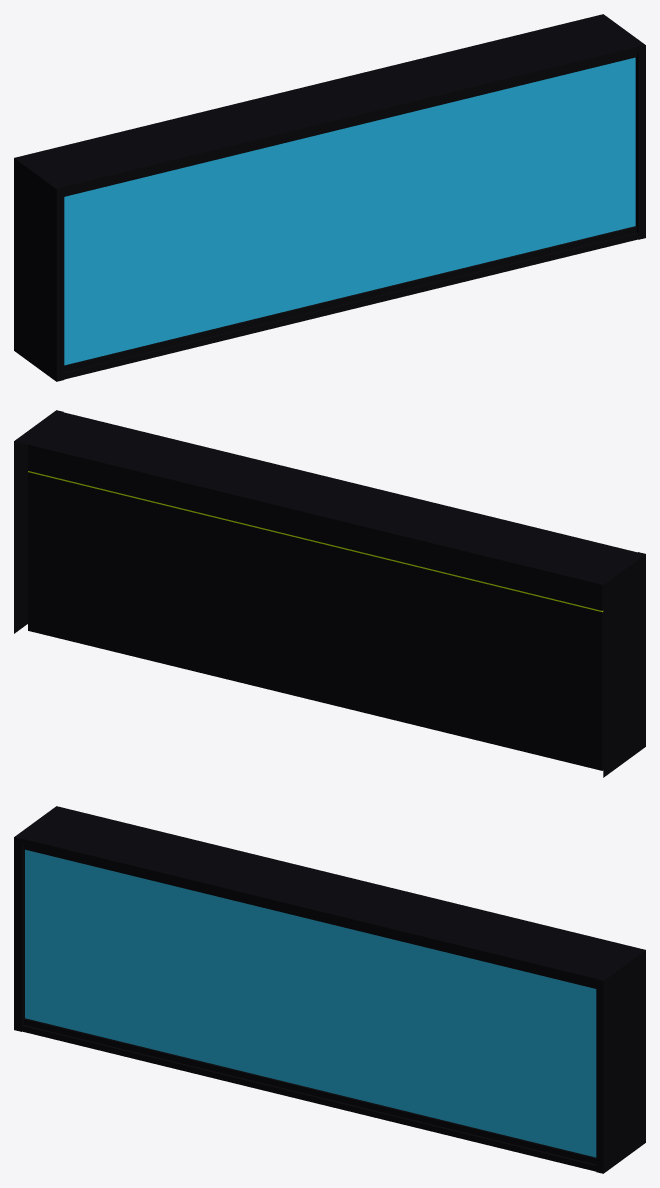
File: Wall_16x5x2_001_L1.fbx
3 views of the same model, one above another, from view 1: azimuth 30°, elevation 25°; view 2: azimuth 150°, elevation 25°; view 3: azimuth 330°, elevation 25° (orthographic).
Parts seen in each view (by area): view 1: Wall_16x5x2_001_L1; view 2: Wall_16x5x2_001_L1; view 3: Wall_16x5x2_001_L1.
Part boxes in pixels (x1,y1,x2,y2): Wall_16x5x2_001_L1: (14,14,645,381); Wall_16x5x2_001_L1: (14,410,645,777); Wall_16x5x2_001_L1: (14,806,645,1173).
Bounding box in the file's own units: 16 × 5 × 2.
